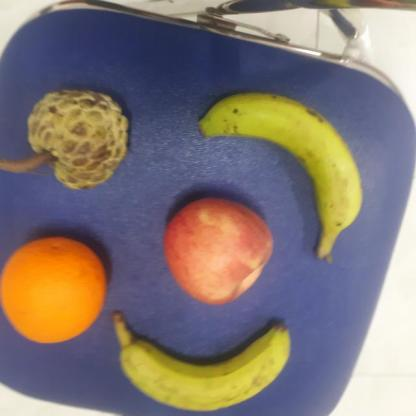annona: (25, 85, 129, 192)
apple: (164, 192, 274, 306)
banana: (196, 92, 362, 261), (113, 310, 298, 416)
orange: (0, 232, 120, 345)
